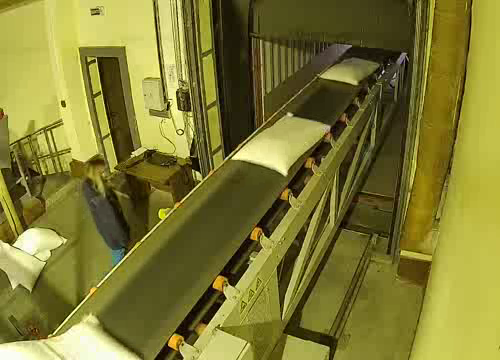bag: (219, 103, 343, 188), (0, 302, 151, 360), (311, 51, 386, 88)
